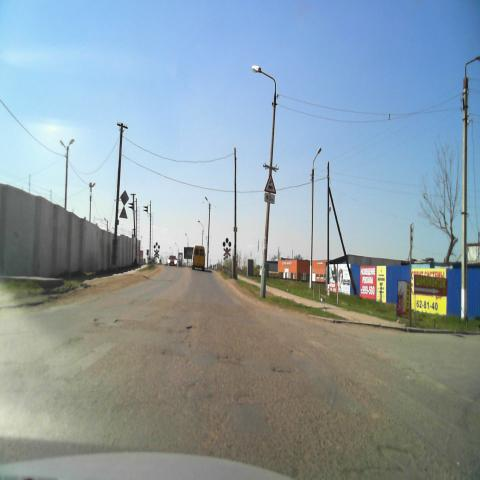8_1_1: (264, 192, 275, 204)
